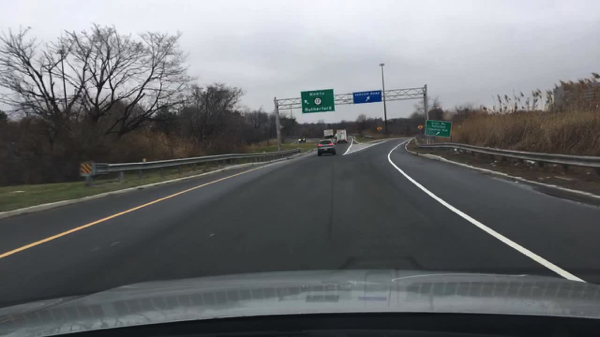car: (317, 139, 337, 157), (297, 135, 306, 144), (334, 132, 337, 139)
traffic sign: (301, 89, 335, 114), (425, 120, 452, 138), (353, 90, 381, 104), (375, 125, 383, 132), (417, 124, 424, 131)
truck: (336, 129, 348, 144), (323, 129, 334, 139)
